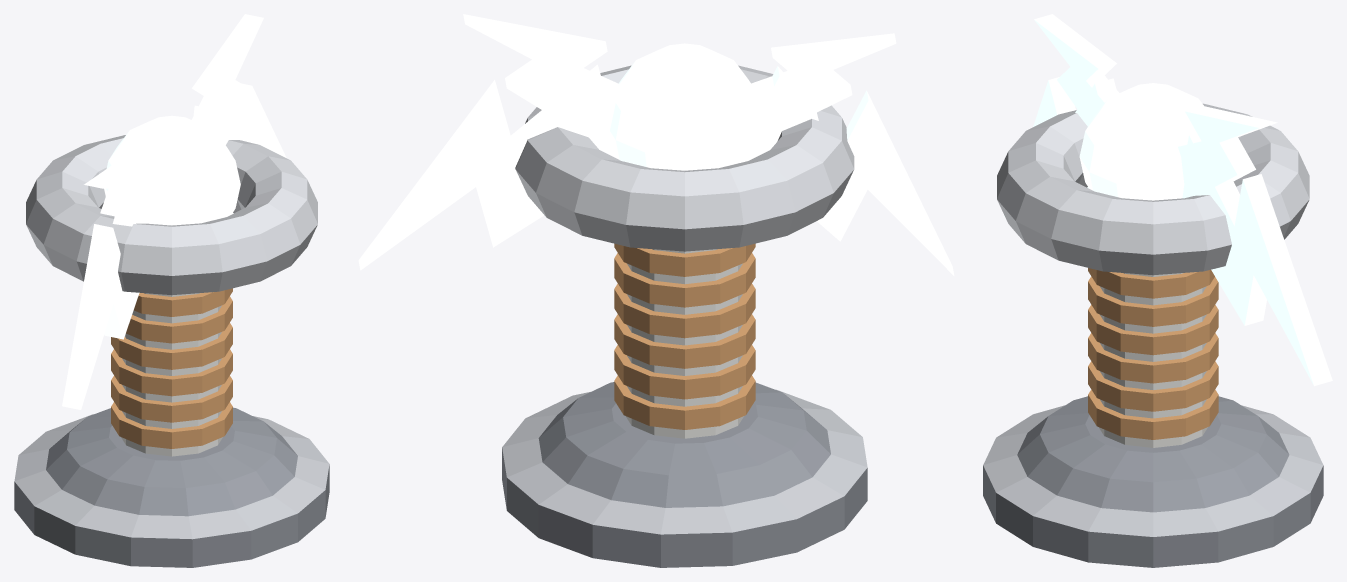
Rendered from item_emp.glb.
3 renders of one model, left to right at view 1: azimuth 30°, elevation 25°; view 2: azimuth 150°, elevation 25°; view 3: azimuth 270°, elevation 25°, orthographic. The views are drawn at different scales.
Visible parts, largest first — view 1: item_emp; view 2: item_emp; view 3: item_emp.
Boxes of the visible parts, x1,y1,x2,y2 form: item_emp: [14, 14, 329, 567]; item_emp: [358, 14, 954, 567]; item_emp: [983, 14, 1332, 567].
Bounding box in the file's own units: 0.823 × 0.8597 × 0.6165.
